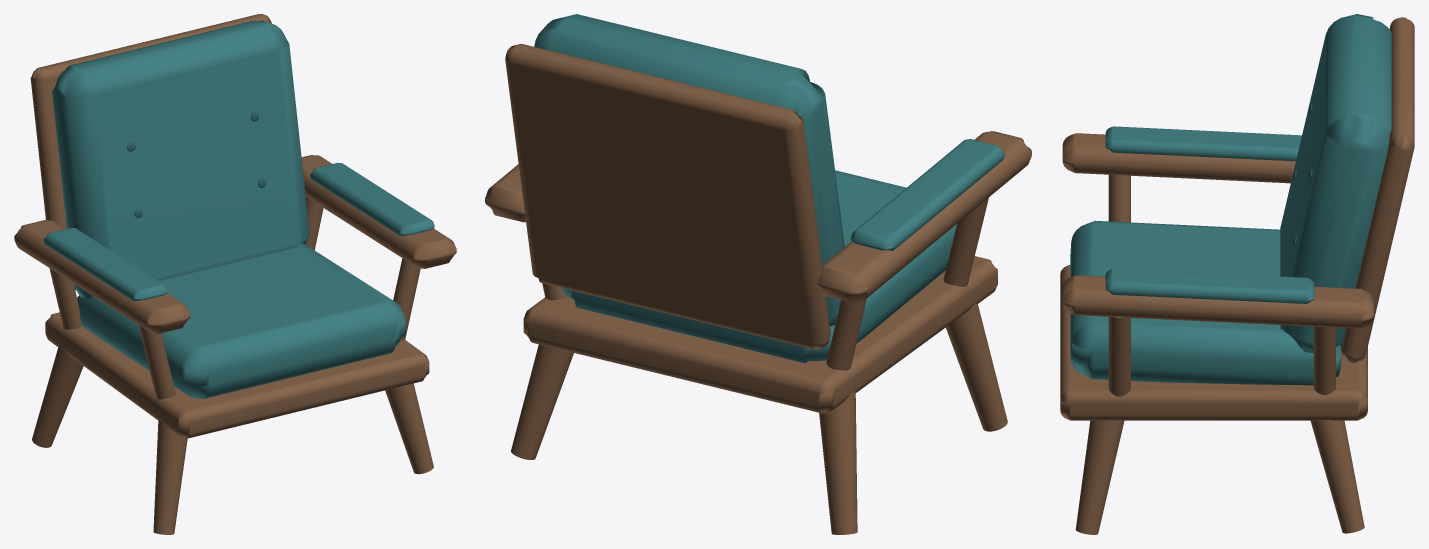
The model's file is Easy Chair.glb.
3 views of the same model, side by side, from view 1: azimuth 30°, elevation 25°; view 2: azimuth 150°, elevation 25°; view 3: azimuth 270°, elevation 25° (orthographic). The views are drawn at different scales.
Parts seen in each view (by area): view 1: Easy_Chair; view 2: Easy_Chair; view 3: Easy_Chair.
Part boxes in pixels (x1,y1,x2,y2): Easy_Chair: (14,14,456,534); Easy_Chair: (485,14,1031,534); Easy_Chair: (1060,14,1414,534).
Size of the model in its own units: 95 by 108 by 86.4.
